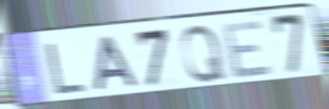7: (268, 12, 308, 78), (135, 27, 172, 90)
A: (93, 33, 142, 93)
E: (221, 17, 276, 81)
L: (45, 40, 89, 97)
Q: (180, 23, 228, 85)
